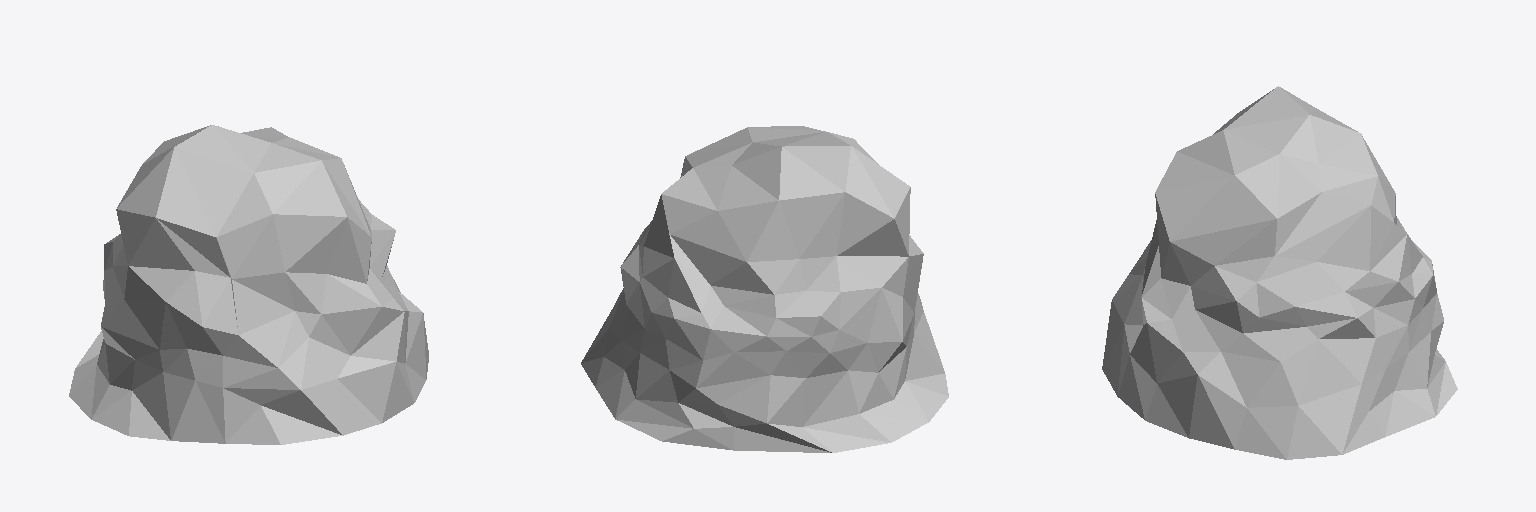
File: bigbigrock.obj
3 views of the same model, side by side, from view 1: azimuth 30°, elevation 25°; view 2: azimuth 150°, elevation 25°; view 3: azimuth 270°, elevation 25° (orthographic).
Visible parts, largest first — view 1: Icosphere; view 2: Icosphere; view 3: Icosphere.
Part boxes in pixels (x1,y1,x2,y2): Icosphere: (69, 125, 428, 444); Icosphere: (581, 126, 948, 452); Icosphere: (1102, 86, 1457, 459).
Size of the model in its own units: 39.46 by 30.04 by 37.29.